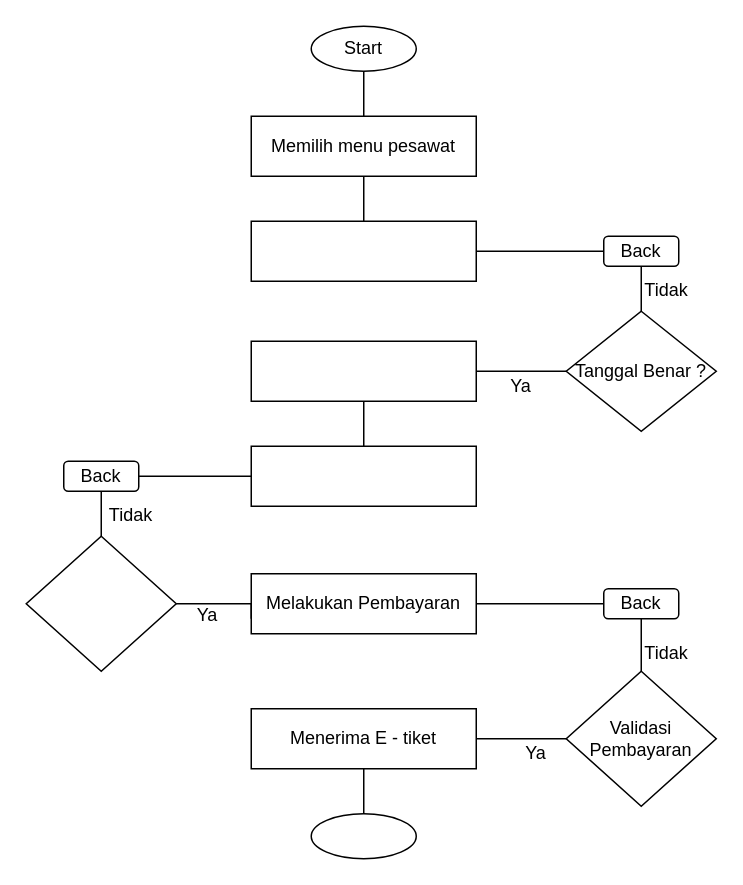
This 743x885 diagram has some shape labels left out. Each missing label, with the centre of its shape:
"End" belongs at point (363, 835).
"Form Benar ?" belongs at point (100, 603).
"Masukkan tanggal penerbangan" belongs at point (363, 250).
"Memilih tiket" belongs at point (363, 370).
"Mengisi Form Pemesanan" belongs at point (363, 475).
